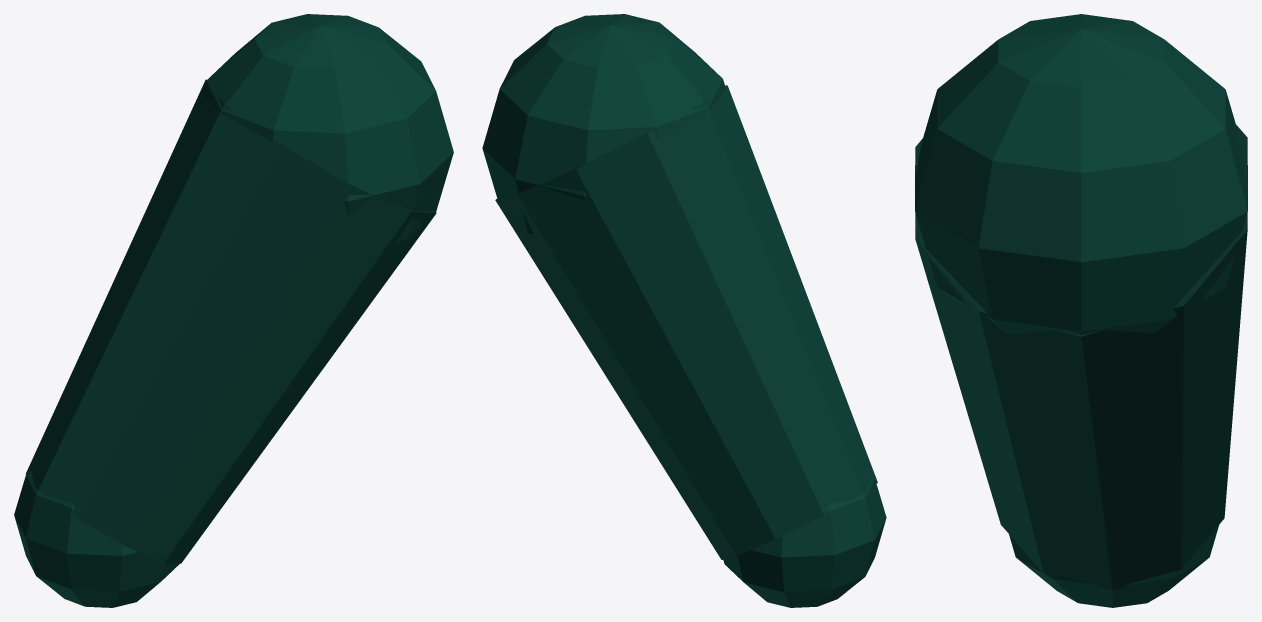
File: SM_brachiosaurus_fore_l_Upper.fbx
3 views of the same model, side by side, from view 1: azimuth 30°, elevation 25°; view 2: azimuth 150°, elevation 25°; view 3: azimuth 270°, elevation 25° (orthographic). The views are drawn at different scales.
Visible parts, largest first — view 1: SM_brachiosaurus_fore_l_Upper export; view 2: SM_brachiosaurus_fore_l_Upper export; view 3: SM_brachiosaurus_fore_l_Upper export.
Part boxes in pixels (left/top/right/bottom): SM_brachiosaurus_fore_l_Upper export: left=14, top=14, right=453, bottom=607; SM_brachiosaurus_fore_l_Upper export: left=482, top=14, right=886, bottom=607; SM_brachiosaurus_fore_l_Upper export: left=915, top=14, right=1247, bottom=607.
Size of the model in its own units: 180 by 98.91 by 229.
